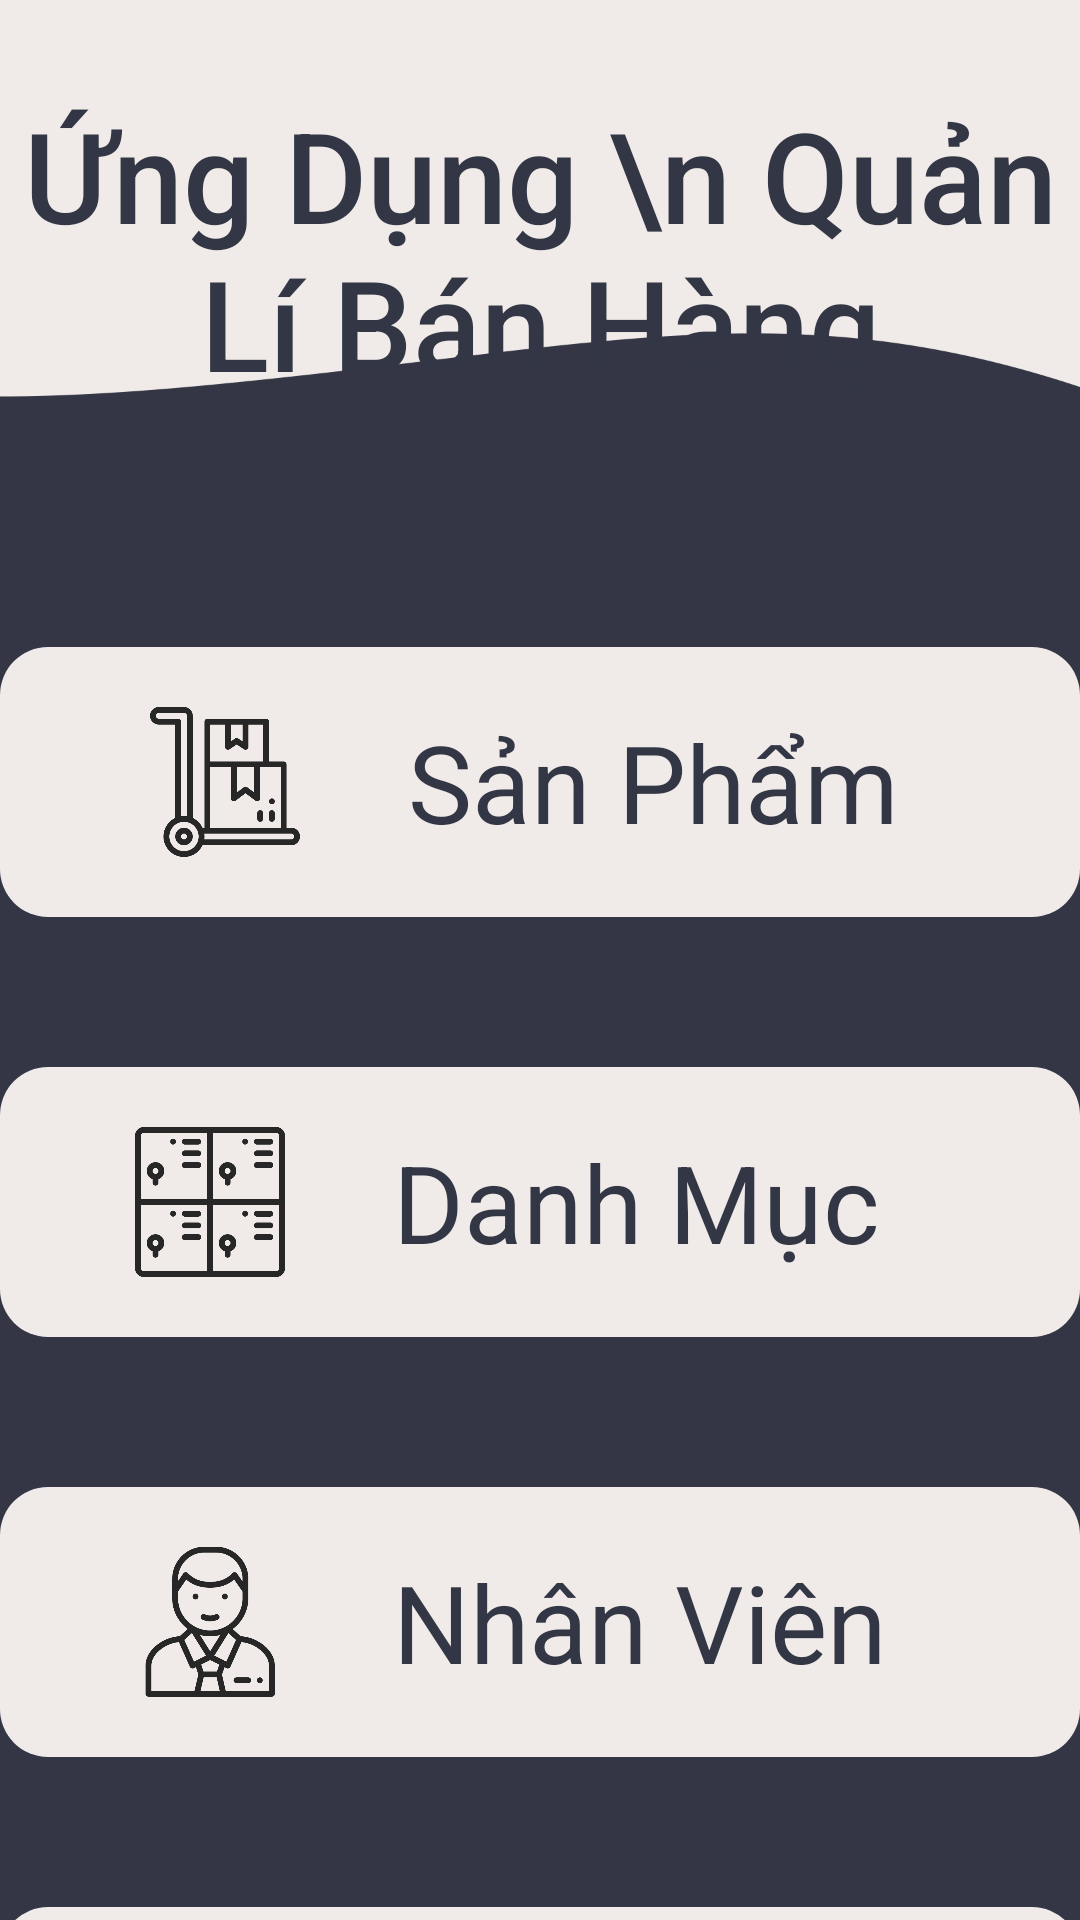

Icons on this 1080x1920 Android screen, each with the point to tap as (x,y):
danhmuc: (210,1202)
nhanvien: (210,1622)
sanpham: (225,782)
